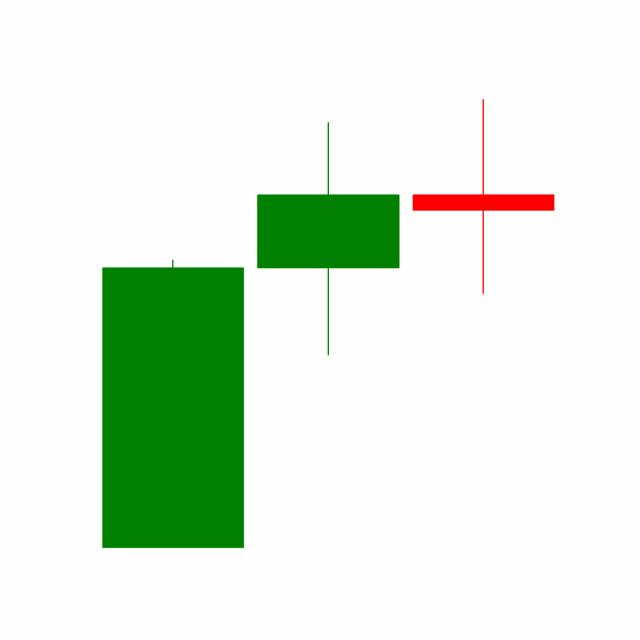Spinning Top: (405, 97, 561, 296)
